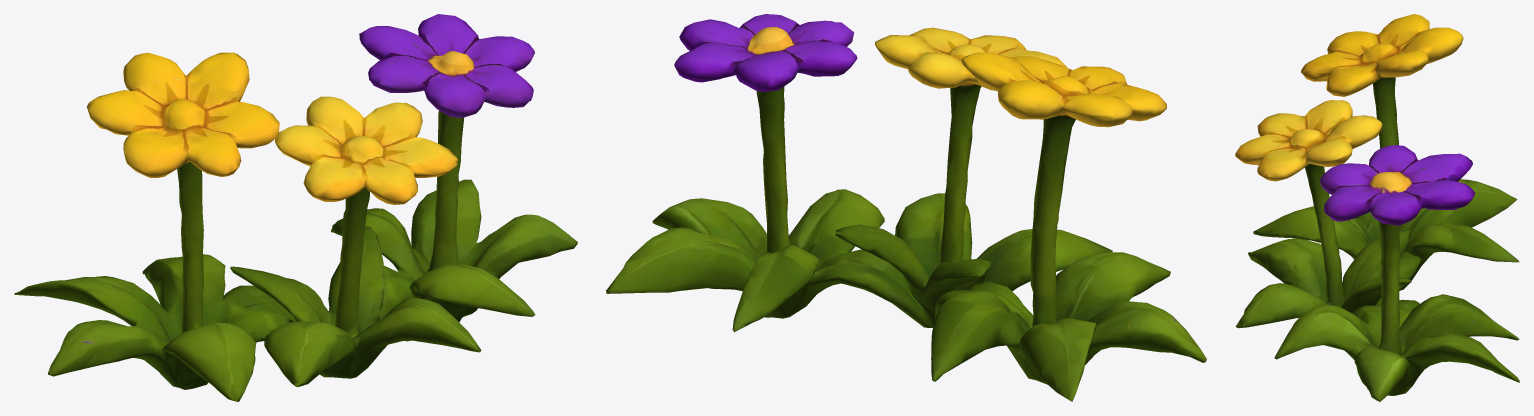
Rendered from flower.glb.
3 views of the same model, side by side, from view 1: azimuth 30°, elevation 25°; view 2: azimuth 150°, elevation 25°; view 3: azimuth 270°, elevation 25° (orthographic). The views are drawn at different scales.
Size of the model in its own units: 1.89 by 1.04 by 1.05.
Materials: 1 (1 with a texture image).
